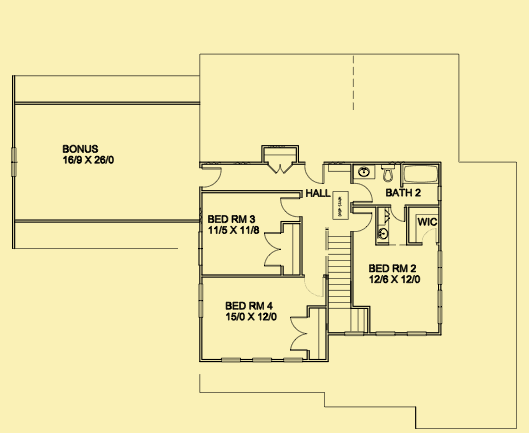door: (261, 229, 285, 269), (289, 316, 309, 353), (280, 194, 302, 218), (305, 162, 327, 186), (350, 211, 375, 232), (301, 275, 325, 296), (200, 167, 224, 187), (351, 183, 373, 202), (391, 203, 408, 225), (421, 227, 439, 246), (267, 163, 294, 174)
large_sink: (377, 164, 398, 183)
small_sink: (353, 164, 377, 181)
stairs: (326, 233, 370, 334)
tub: (401, 164, 437, 186)
window: (197, 228, 205, 267), (436, 290, 444, 325), (435, 248, 442, 285), (197, 281, 202, 318)
